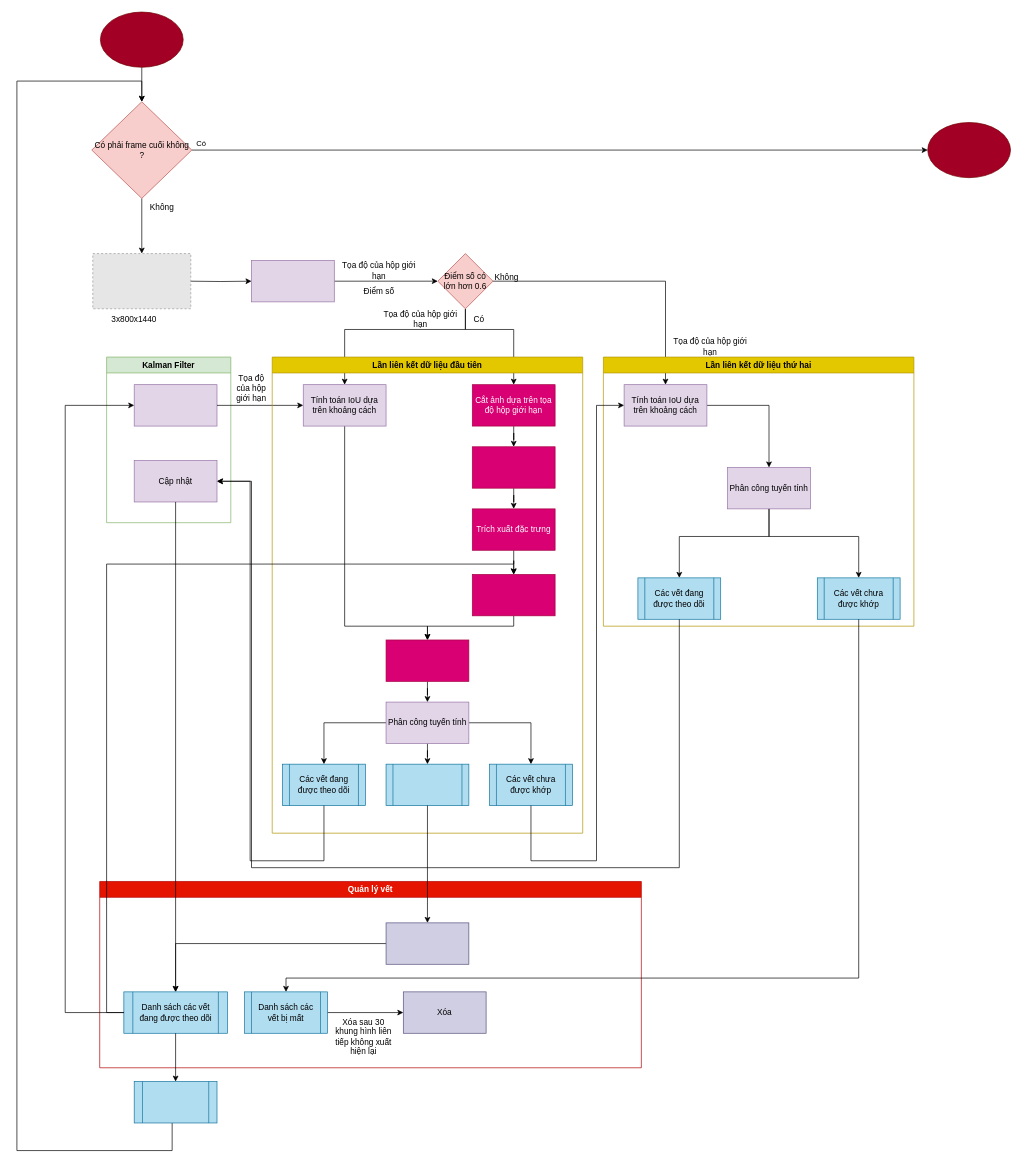
This 1023x1168 diagram has some shape labels left out. Grey dashed boxes stand in for pictures. Here are the shapes that lost their labels. From the top down, the centre of each, then its label:
At pixel 141 39: "Bắt đầu".
At pixel 969 150: "Kết thúc".
At pixel 292 281: "Bộ phát hiện YOLOX".
At pixel 175 405: "Dự đoán".
At pixel 513 467: "Chỉnh kích thước ảnh về (1, 3, 224, 224)".
At pixel 513 595: "Tính độ tương quan cosine giữa các vector đặc trưng".
At pixel 427 660: "Tính ma trận kết hợp".
At pixel 427 784: "Các phát hiện chưa được theo dõi".
At pixel 427 943: "Khởi tạo vết mới".
At pixel 175 1102: "Thông tin về các hộp giới hạn và ID".
